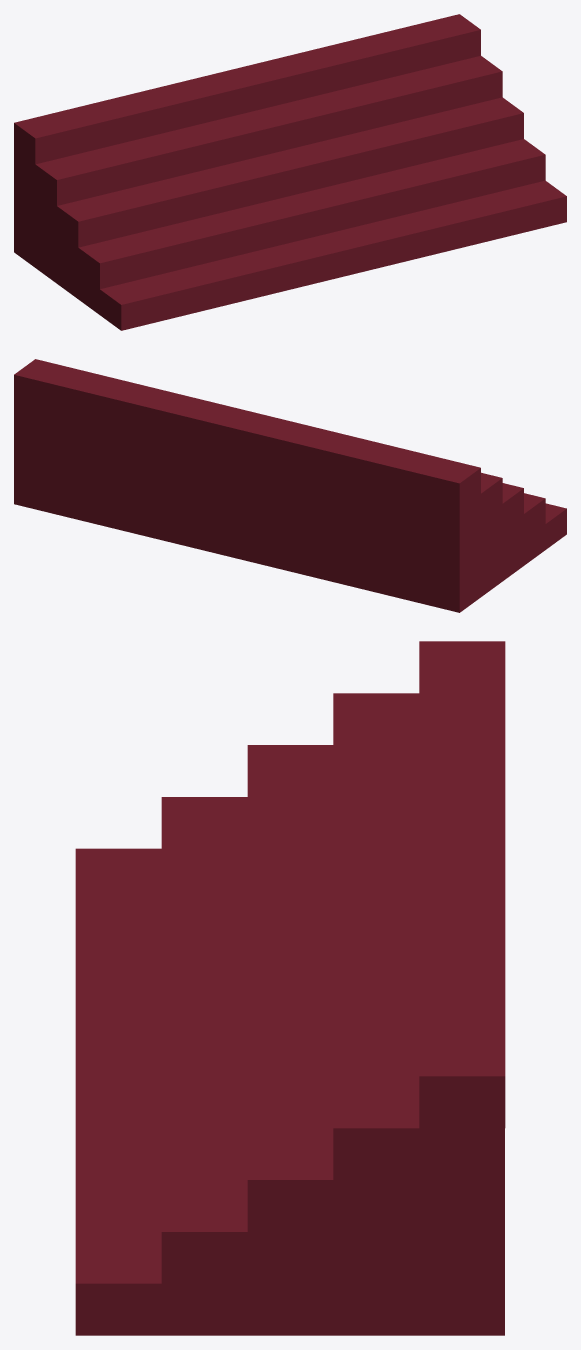
Rendered from stairs_001_grp.fbx.
3 renders of one model, top to bottom at view 1: azimuth 30°, elevation 25°; view 2: azimuth 150°, elevation 25°; view 3: azimuth 270°, elevation 25°, orthographic. The views are drawn at different scales.
Visible parts, largest first — view 1: stairs_001_grp; view 2: stairs_001_grp; view 3: stairs_001_grp.
Boxes of the visible parts, bbox=[...] form: stairs_001_grp: bbox=[14, 14, 566, 330]; stairs_001_grp: bbox=[14, 359, 566, 612]; stairs_001_grp: bbox=[75, 641, 505, 1335].
Bounding box in the file's own units: 360 × 100 × 150.
